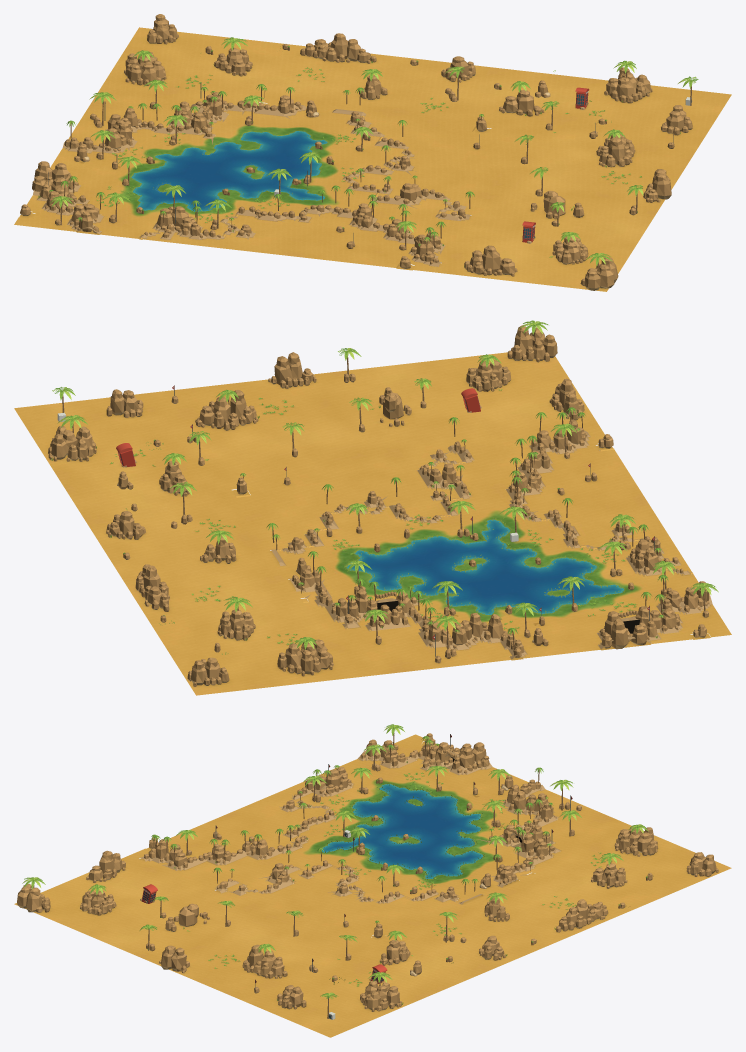
The model's file is hm17-terrain-props.glb.
3 views of the same model, one above another, from view 1: azimuth 30°, elevation 25°; view 2: azimuth 150°, elevation 25°; view 3: azimuth 270°, elevation 25° (orthographic). The views are drawn at different scales.
Parts seen in each view (by area): view 1: HM17-chunk-1-4-ground-support, HM17-chunk-3-3-ground-support, HM17-chunk-3-4-ground-support, HM17-chunk-4-3-ground-support, HM17-chunk-0-2-ground-support, HM17-chunk-2-4-ground-support, HM17-chunk-4-4-ground-support, HM17-chunk-1-5-ground-support, HM17-chunk-2-5-ground-support, HM17-chunk-4-2-ground-support, HM17-chunk-0-3-ground-support, HM17-chunk-5-2-ground-support (+60 smaller); view 2: HM17-chunk-1-4-ground-support, HM17-chunk-3-3-ground-support, HM17-chunk-2-4-ground-support, HM17-chunk-3-4-ground-support, HM17-chunk-4-3-ground-support, HM17-chunk-1-5-ground-support, HM17-chunk-5-4-ground-support, HM17-chunk-5-3-ground-support, HM17-chunk-4-1-ground-support, HM17-chunk-2-5-ground-support, HM17-chunk-0-2-ground-support, HM17-chunk-0-3-ground-support (+57 smaller); view 3: HM17-chunk-3-3-ground-support, HM17-chunk-2-4-ground-support, HM17-chunk-1-4-ground-support, HM17-chunk-1-5-ground-support, HM17-chunk-3-4-ground-support, HM17-chunk-5-5-ground-support, HM17-chunk-0-2-ground-support, HM17-chunk-5-2-ground-support, HM17-chunk-4-4-ground-support, HM17-chunk-5-3-ground-support, HM17-chunk-4-3-ground-support, HM17-chunk-4-1-ground-support (+56 smaller).
Part boxes in pixels (bbox=[...]): HM17-chunk-1-4-ground-support: bbox=[436, 167, 564, 247]; HM17-chunk-3-3-ground-support: bbox=[369, 126, 533, 170]; HM17-chunk-3-4-ground-support: bbox=[474, 136, 591, 181]; HM17-chunk-4-3-ground-support: bbox=[389, 94, 508, 136]; HM17-chunk-0-2-ground-support: bbox=[208, 214, 332, 258]; HM17-chunk-2-4-ground-support: bbox=[451, 171, 570, 214]; HM17-chunk-4-4-ground-support: bbox=[492, 108, 611, 148]; HM17-chunk-1-5-ground-support: bbox=[529, 216, 648, 258]; HM17-chunk-2-5-ground-support: bbox=[560, 182, 665, 225]; HM17-chunk-4-2-ground-support: bbox=[295, 82, 414, 125]; HM17-chunk-0-3-ground-support: bbox=[309, 223, 415, 267]; HM17-chunk-5-2-ground-support: bbox=[316, 53, 435, 93]; HM17-chunk-1-4-ground-support: bbox=[349, 378, 525, 463]; HM17-chunk-3-3-ground-support: bbox=[250, 422, 377, 534]; HM17-chunk-2-4-ground-support: bbox=[312, 417, 433, 472]; HM17-chunk-3-4-ground-support: bbox=[223, 426, 338, 484]; HM17-chunk-4-3-ground-support: bbox=[164, 485, 283, 541]; HM17-chunk-1-5-ground-support: bbox=[371, 357, 490, 415]; HM17-chunk-5-4-ground-support: bbox=[44, 446, 163, 503]; HM17-chunk-5-3-ground-support: bbox=[75, 494, 194, 551]; HM17-chunk-4-1-ground-support: bbox=[225, 582, 344, 637]; HM17-chunk-2-5-ground-support: bbox=[288, 368, 385, 425]; HM17-chunk-0-2-ground-support: bbox=[551, 489, 670, 549]; HM17-chunk-0-3-ground-support: bbox=[527, 445, 640, 502]; HM17-chunk-3-3-ground-support: bbox=[286, 885, 429, 936]; HM17-chunk-2-4-ground-support: bbox=[195, 892, 301, 942]; HM17-chunk-1-4-ground-support: bbox=[134, 868, 252, 926]; HM17-chunk-1-5-ground-support: bbox=[67, 898, 178, 948]; HM17-chunk-3-4-ground-support: bbox=[239, 917, 361, 964]; HM17-chunk-5-5-ground-support: bbox=[278, 987, 396, 1037]; HM17-chunk-0-2-ground-support: bbox=[215, 791, 334, 839]; HM17-chunk-5-2-ground-support: bbox=[479, 902, 597, 952]; HM17-chunk-4-4-ground-support: bbox=[292, 937, 410, 987]; HM17-chunk-5-3-ground-support: bbox=[412, 931, 530, 981]; HM17-chunk-4-3-ground-support: bbox=[362, 907, 477, 958]; HM17-chunk-4-1-ground-support: bbox=[507, 852, 597, 902].
Bounding box in the file's own units: 144 × 7.15 × 144.
3 materials, 2 textured.
